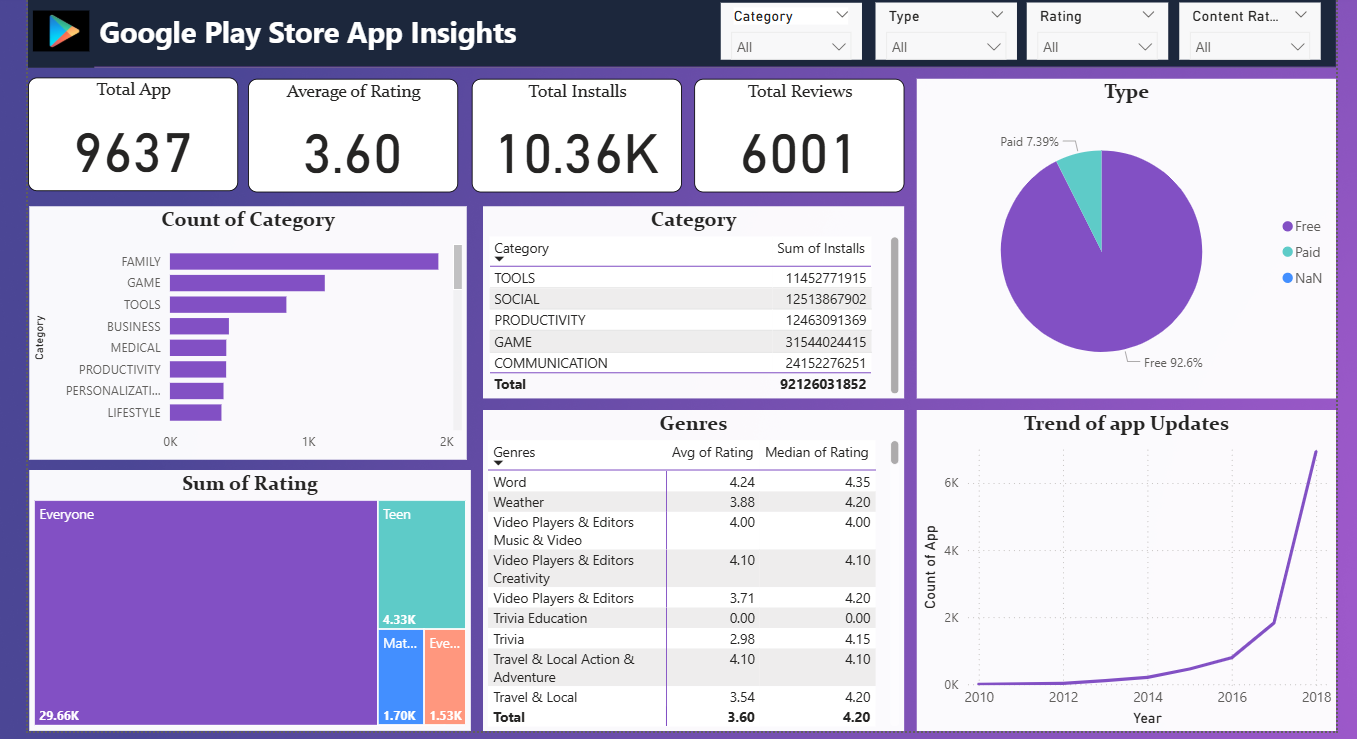

The page's visual inventory and layout, read from the dashboard file:
{"tool":"powerbi","page":{"name":"Page 1","canvas":[1280,720],"ordinal":0},"visuals":[{"type":"shape","box":[0,0,1280.3,70.9],"z":0},{"type":"card","title":"Total App","fields":{"Values":["Count(googleplaystore.App)"]},"box":[0,80.7,205.4,111.3],"z":1000},{"type":"card","title":"Average of Rating","fields":{"Values":["Avg(googleplaystore.Rating)"]},"box":[215.2,81.9,205.4,111.3],"z":2000},{"type":"card","title":"Total Reviews","fields":{"Values":["Count(googleplaystore.Reviews)"]},"box":[651.8,81.9,205.4,111.3],"z":3000},{"type":"card","title":"Total Installs","fields":{"Values":["CountNonNull(googleplaystore.Installs)"]},"box":[434.1,81.9,205.4,111.3],"z":4000},{"type":"clusteredBarChart","title":"Count of Category ","fields":{"Category":["googleplaystore.Category"],"Y":["CountNonNull(googleplaystore.Category)"]},"box":[1.4,207.2,428.1,248.4],"z":5000},{"type":"pieChart","title":"Type","fields":{"Category":["googleplaystore.Type"],"Y":["Measure.AppTypePercentage"]},"box":[869.4,81.9,410.9,313],"z":6000},{"type":"treemap","title":"Sum of Rating","fields":{"Group":["googleplaystore.Content Rating"],"Values":["Sum(googleplaystore.Rating)"]},"box":[1.4,465.2,432.2,255.2],"z":7000},{"type":"lineChart","title":"Trend of app Updates","fields":{"Category":["googleplaystore.Last Updated time.Variation.Date Hierarchy.Year"],"Y":["CountNonNull(googleplaystore.App)"]},"box":[869.4,406,410.9,314.3],"z":8000},{"type":"tableEx","title":"Category ","fields":{"Values":["googleplaystore.Category","Sum(googleplaystore.Installs)"]},"box":[445.1,206.7,412.1,188.3],"z":9000},{"type":"pivotTable","title":"Genres ","fields":{"Rows":["googleplaystore.Genres"],"Values":["Avg(googleplaystore.Rating)","Median(googleplaystore.Rating)"]},"box":[445.1,406,412.1,314.3],"z":10000},{"type":"image","box":[0,0,64.8,70.9],"z":11000},{"type":"slicer","fields":{"Values":["googleplaystore.Type"]},"box":[829.1,7.3,138.2,56.3],"z":12000},{"type":"slicer","fields":{"Values":["googleplaystore.Category"]},"box":[677.4,7.3,138.2,56.3],"z":13000},{"type":"slicer","fields":{"Values":["googleplaystore.Rating"]},"box":[977,7.3,138.2,56.3],"z":14000},{"type":"slicer","fields":{"Values":["googleplaystore.Content Rating"]},"box":[1126.2,7.3,138.2,56.3],"z":15000}]}

Visuals, with their boxes in screenshot pixels (x1, y1, x2, y2):
shape: (left=32, top=0, right=1327, bottom=68)
"Total App" card: (left=32, top=78, right=240, bottom=191)
"Average of Rating" card: (left=250, top=79, right=457, bottom=192)
"Total Reviews" card: (left=691, top=79, right=899, bottom=192)
"Total Installs" card: (left=471, top=79, right=679, bottom=192)
"Count of Category " clusteredBarChart: (left=33, top=206, right=466, bottom=457)
"Type" pieChart: (left=911, top=79, right=1327, bottom=396)
"Sum of Rating" treemap: (left=33, top=467, right=470, bottom=725)
"Trend of app Updates" lineChart: (left=911, top=407, right=1327, bottom=725)
"Category " tableEx: (left=482, top=206, right=899, bottom=396)
"Genres " pivotTable: (left=482, top=407, right=899, bottom=725)
image: (left=32, top=0, right=97, bottom=68)
slicer - googleplaystore.Type: (left=871, top=4, right=1010, bottom=61)
slicer - googleplaystore.Category: (left=717, top=4, right=857, bottom=61)
slicer - googleplaystore.Rating: (left=1020, top=4, right=1160, bottom=61)
slicer - googleplaystore.Content Rating: (left=1171, top=4, right=1311, bottom=61)
